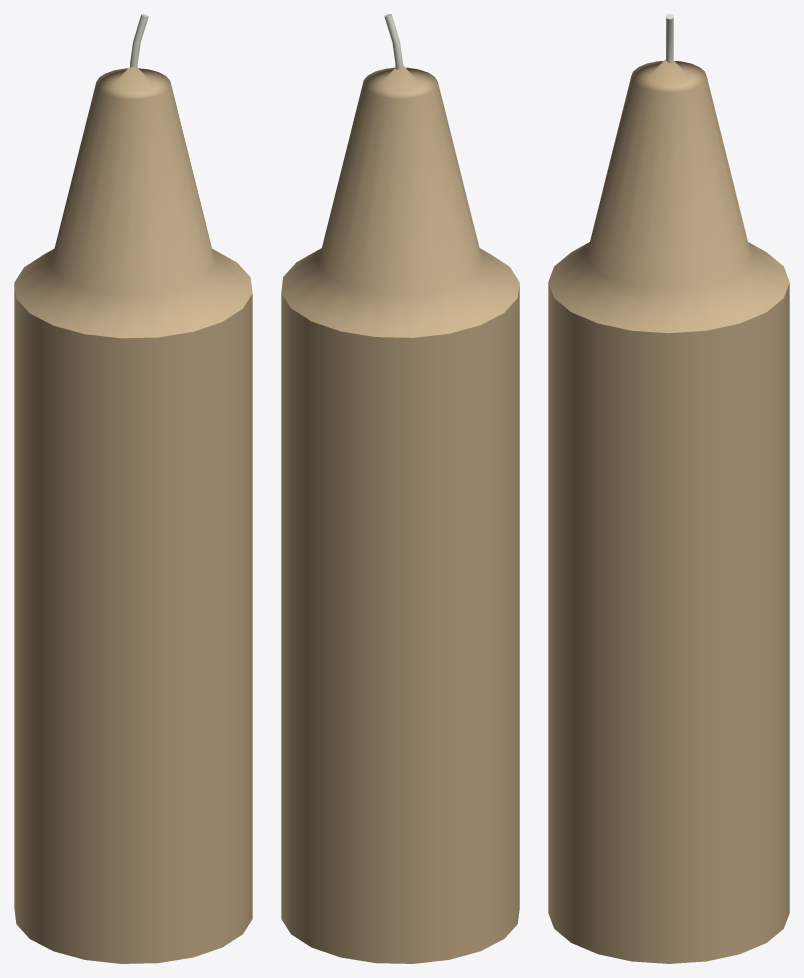
Rendered from candle.fbx.
The picture shows the model from 3 angles, left to right: view 1: azimuth 30°, elevation 25°; view 2: azimuth 150°, elevation 25°; view 3: azimuth 270°, elevation 25°; orthographic projection.
Parts seen in each view (by area): view 1: pCylinder20; view 2: pCylinder20; view 3: pCylinder20.
Part boxes in pixels (box(x1,y1,x2,y2)): pCylinder20: box(14, 67, 252, 963); pCylinder20: box(281, 66, 519, 963); pCylinder20: box(548, 59, 789, 963).
Bounding box in the file's own units: 1.43 × 5.91 × 1.43.
